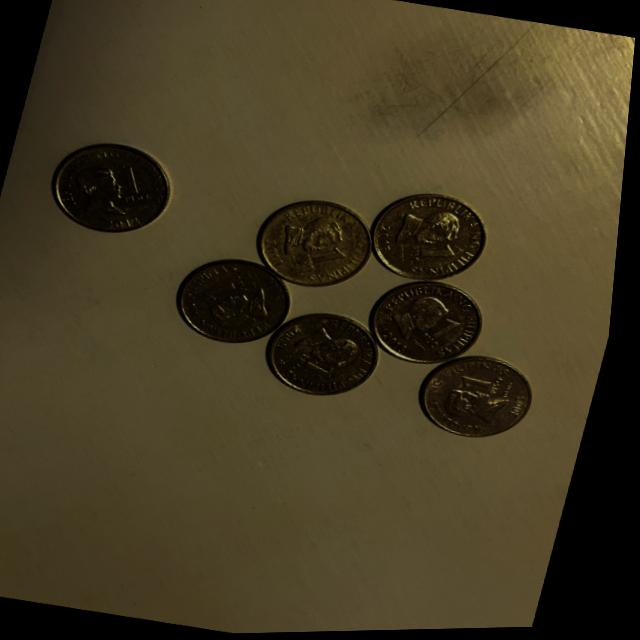1_Old_Front: (108, 157, 166, 206), (204, 269, 268, 311), (289, 347, 349, 388), (406, 239, 466, 275), (298, 243, 356, 280), (425, 309, 470, 356), (458, 365, 513, 403)
